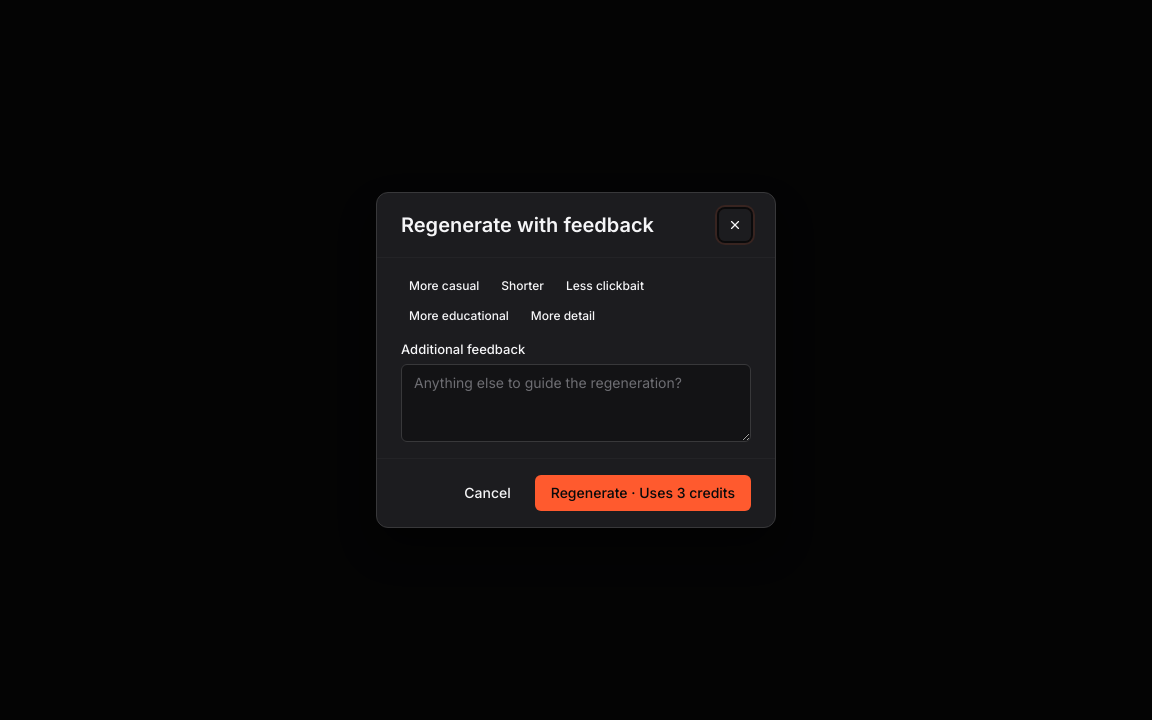
Test: RegenerateModal › on failure, shows an inline error and stays open
The width and height of the screenshot is (1152, 720).
Click the button "Regenerate · Uses 3 credits" at {"x": 643, "y": 493}, box [535,475,751,511]
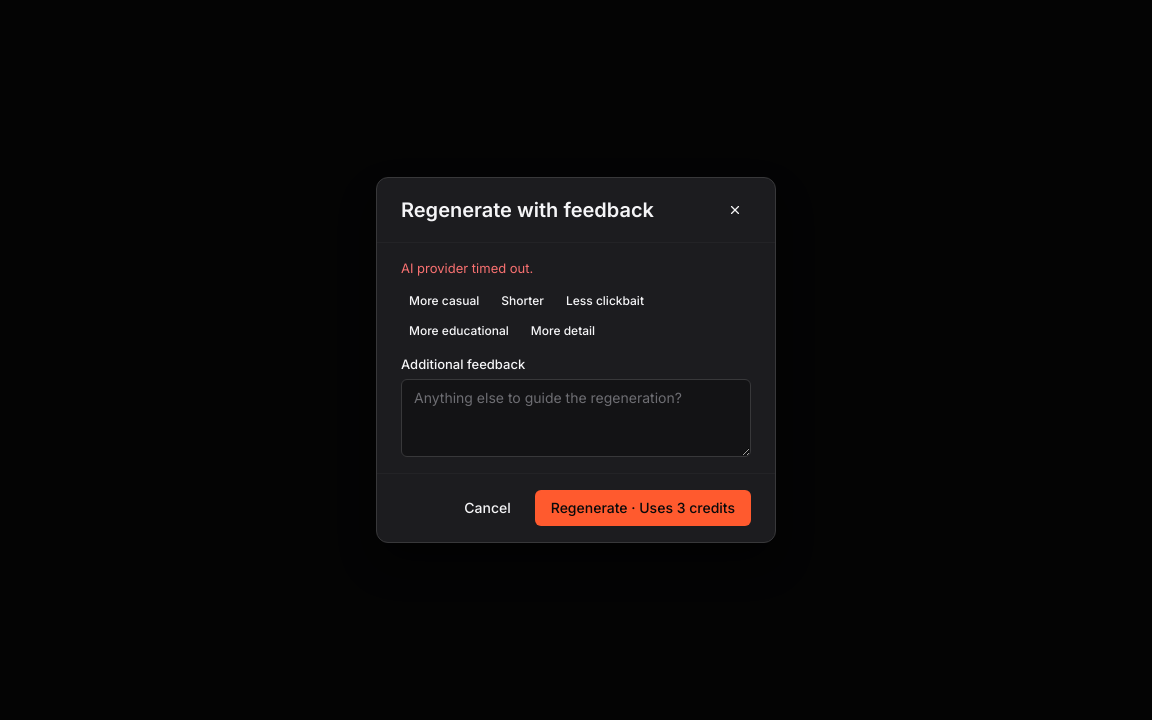
Now the text "AI provider timed out." is shown, box [401,260,533,276]
